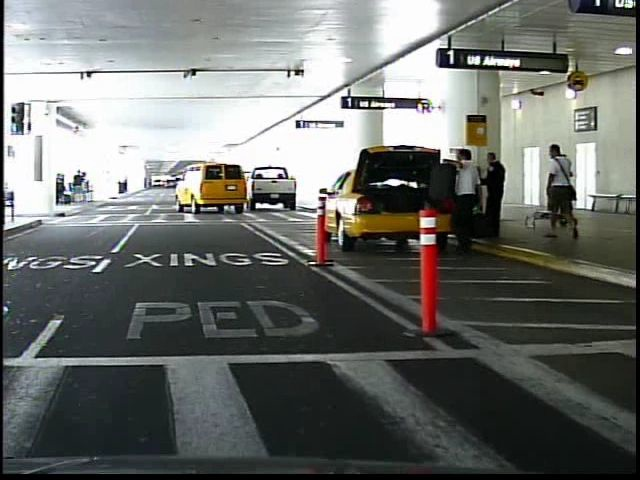person: (536, 138, 577, 240)
